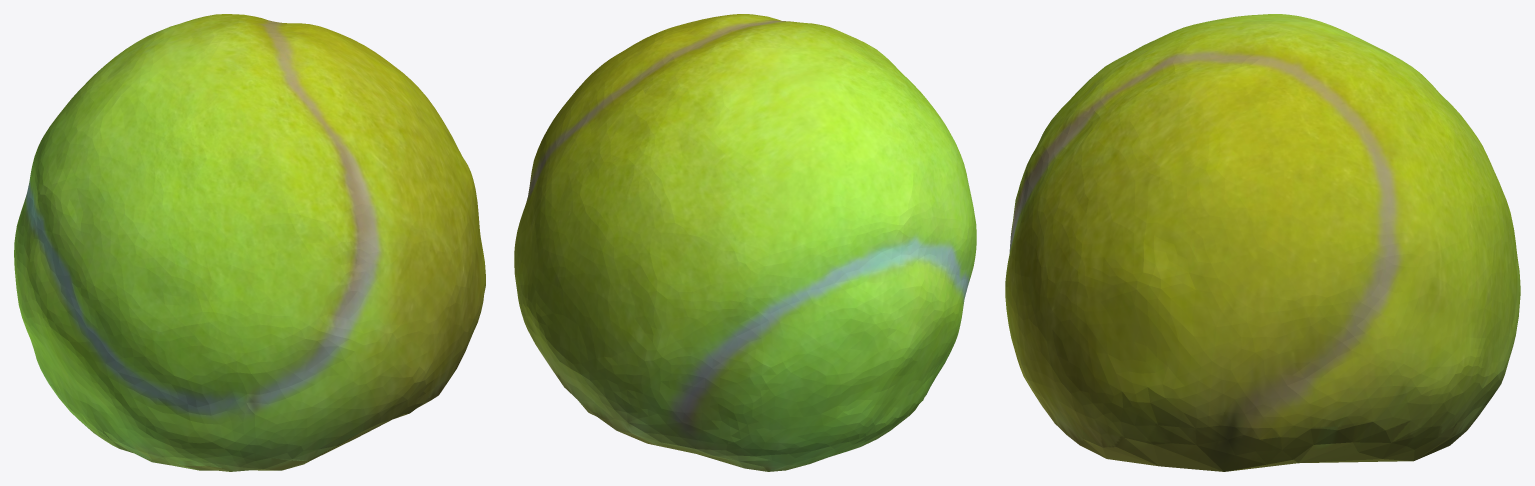
Rendered from tennis_ball_scaled.obj.
The picture shows the model from 3 angles, left to right: view 1: azimuth 30°, elevation 25°; view 2: azimuth 150°, elevation 25°; view 3: azimuth 270°, elevation 25°; orthographic projection. The views are drawn at different scales.
Parts seen in each view (by area): view 1: tennis_ball.obj; view 2: tennis_ball.obj; view 3: tennis_ball.obj.
Boxes of the visible parts, <box> form: tennis_ball.obj: <box>14,14,485,471</box>; tennis_ball.obj: <box>514,14,976,471</box>; tennis_ball.obj: <box>1005,14,1520,471</box>.
Size of the model in its own units: 0.0655 by 0.0589 by 0.0669.
1 material, 1 textured.
